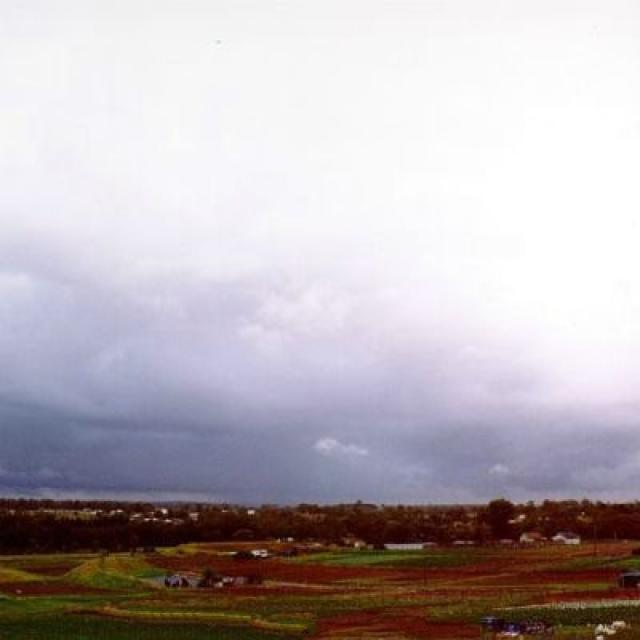Ns: (1, 45, 640, 469)
